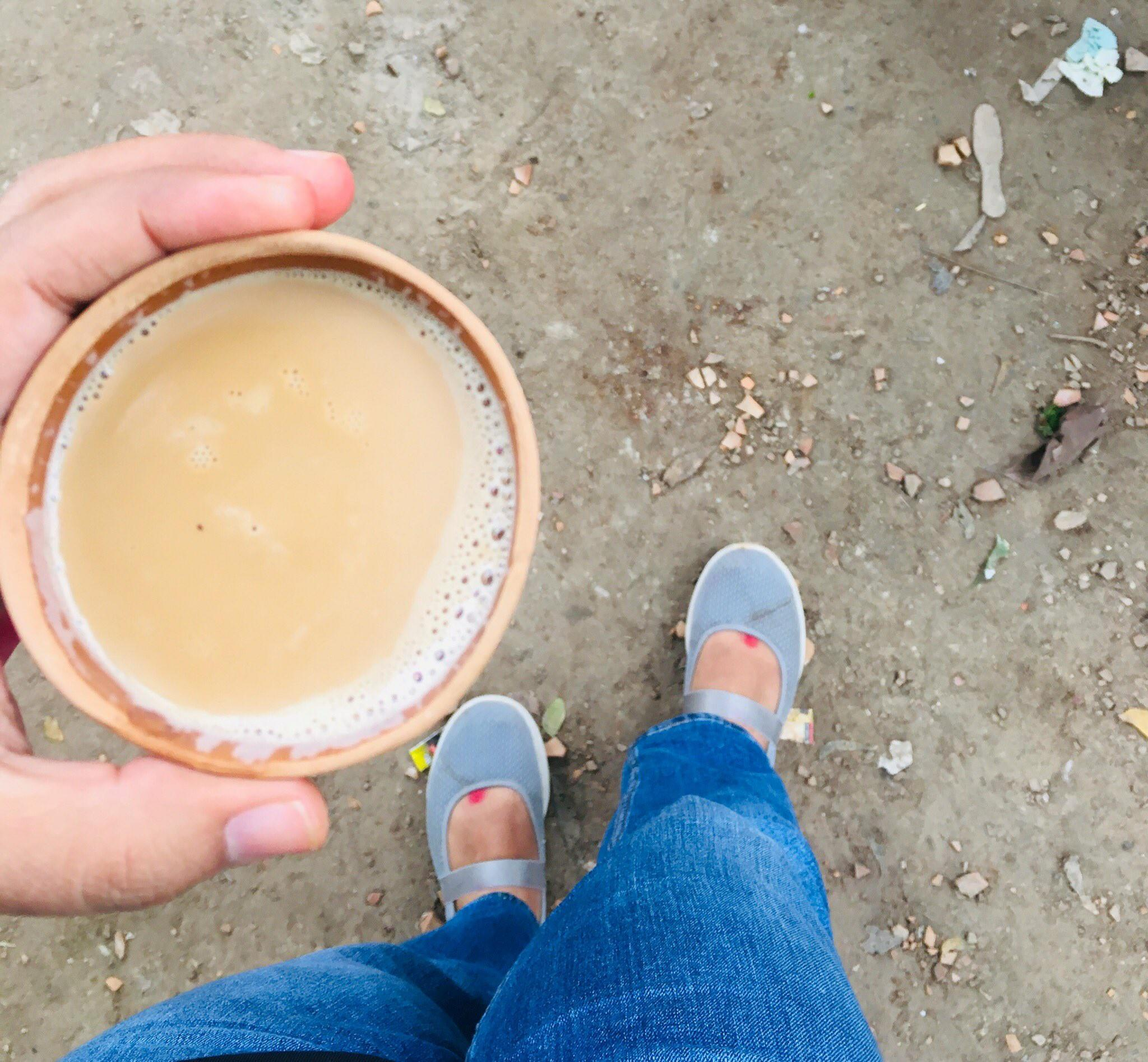Chai: (46, 262, 520, 761)
